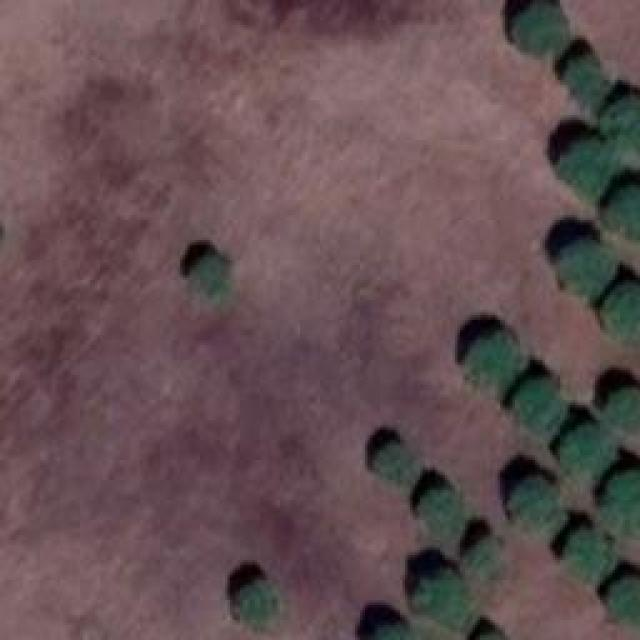Tree: (557, 238, 615, 298), (558, 420, 613, 478), (555, 140, 615, 193), (470, 335, 525, 390), (518, 3, 571, 56), (415, 570, 468, 623), (513, 475, 566, 528), (228, 580, 278, 630), (563, 528, 613, 578), (607, 277, 640, 350), (518, 380, 563, 433), (423, 483, 468, 536), (605, 467, 640, 535), (570, 53, 613, 103), (597, 187, 640, 237), (605, 92, 640, 150), (370, 443, 413, 488), (607, 387, 640, 434), (190, 255, 223, 298), (468, 535, 501, 575), (610, 578, 640, 618), (363, 622, 416, 640)
